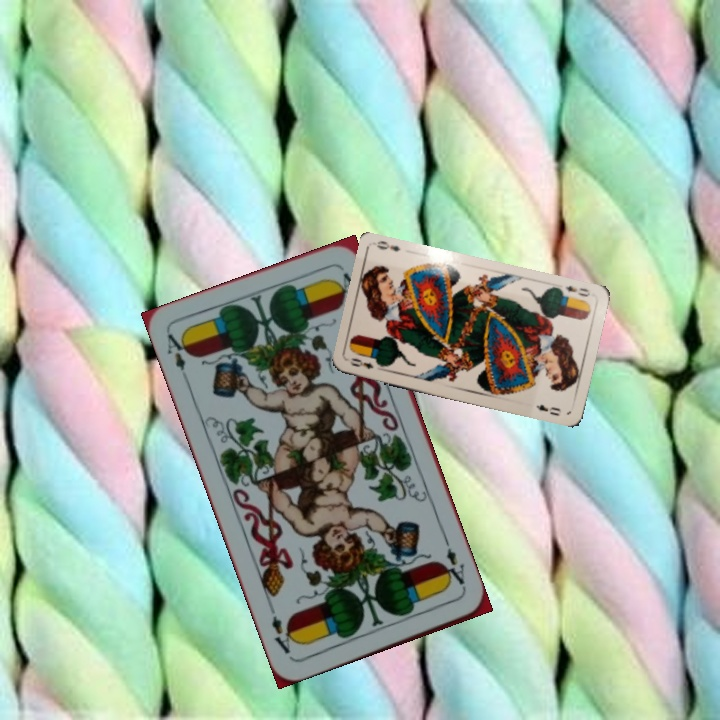EA: (437, 536, 469, 593), (162, 329, 193, 386)
EO: (555, 282, 592, 300), (346, 354, 376, 372)
